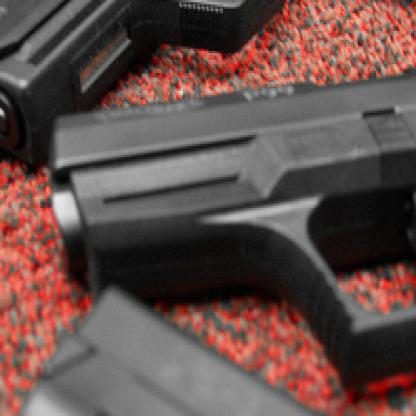gun: (34, 20, 414, 414), (0, 0, 415, 178), (0, 272, 415, 414), (0, 0, 170, 179)
